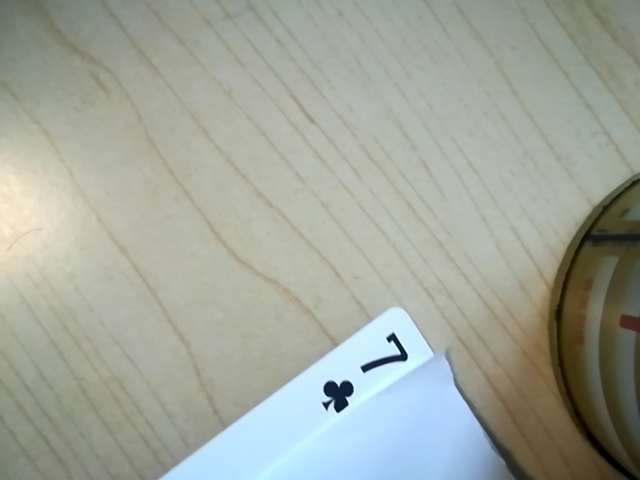mh 7: (301, 329, 428, 414)
